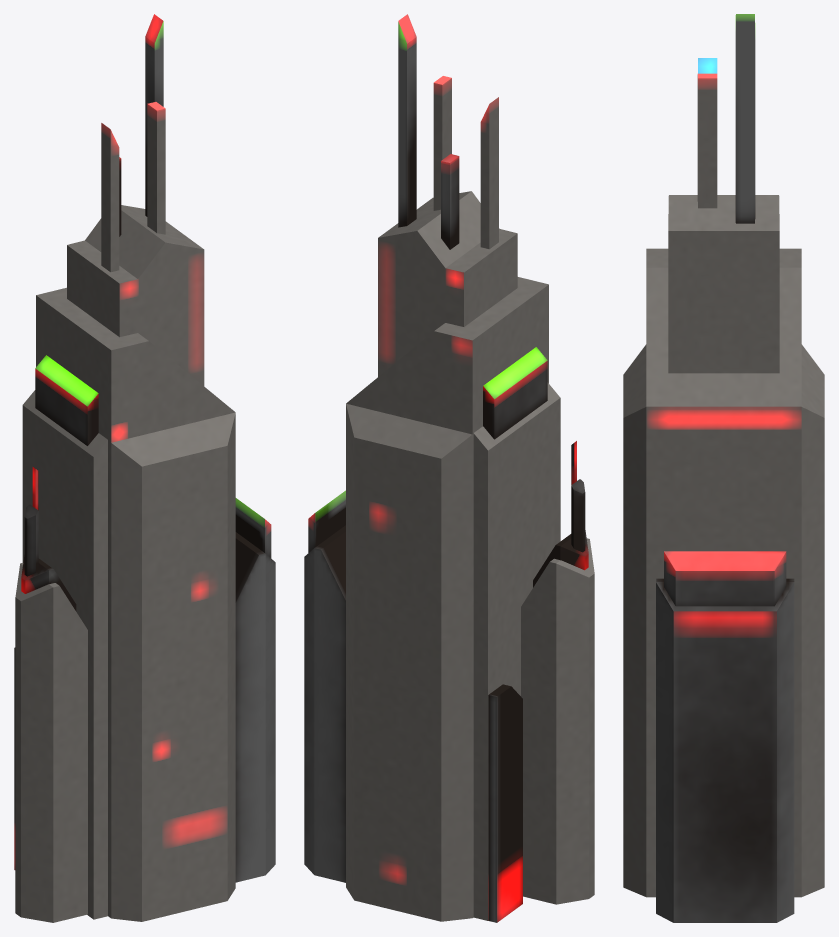
Rendered from SM_BackgroundBuilding_015.fbx.
3 views of the same model, side by side, from view 1: azimuth 30°, elevation 25°; view 2: azimuth 150°, elevation 25°; view 3: azimuth 270°, elevation 25° (orthographic). The views are drawn at different scales.
Parts seen in each view (by area): view 1: SM_BackgroundBuilding_015; view 2: SM_BackgroundBuilding_015; view 3: SM_BackgroundBuilding_015.
Boxes of the visible parts, x1=… form: SM_BackgroundBuilding_015: x1=14, y1=14, x2=275, y2=922; SM_BackgroundBuilding_015: x1=304, y1=14, x2=594, y2=922; SM_BackgroundBuilding_015: x1=623, y1=14, x2=824, y2=922.
Bounding box in the file's own units: 1259 × 870 × 4138.
Materials: 1 (1 with a texture image).
